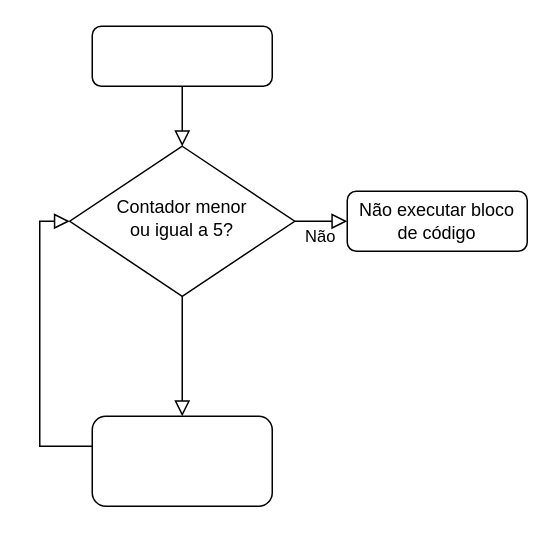
The diagram is 554 pixels wide and 533 high, and some of its shapes have lost their labels. Each missing label, with the centre of its shape:
contador ++: (x=181, y=460)
início do loop while: (x=181, y=55)
